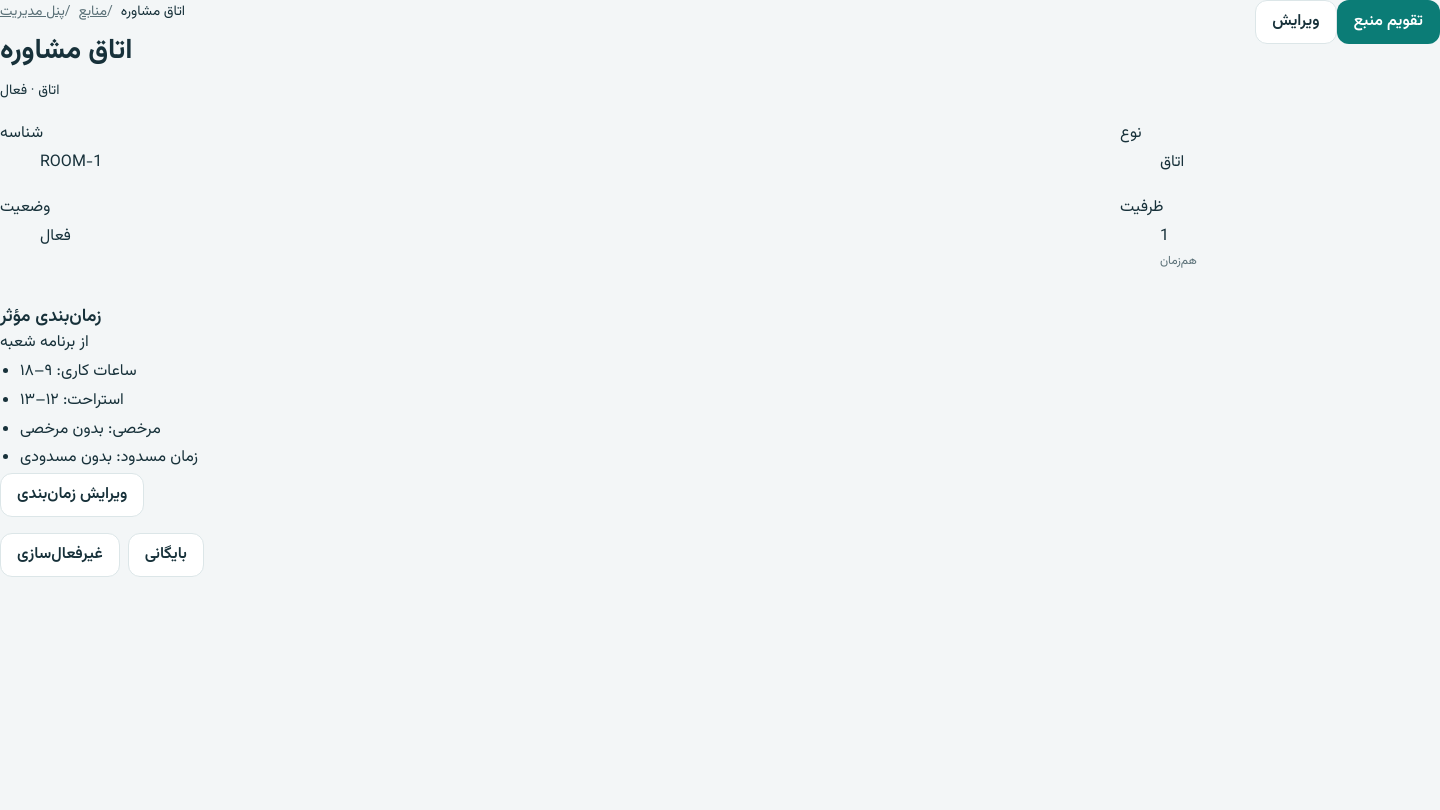
AdminResourceDetailScreen › requires impact preview before deactivation
Click the button "غیرفعال‌سازی": (60, 555) [0,533,120,577]
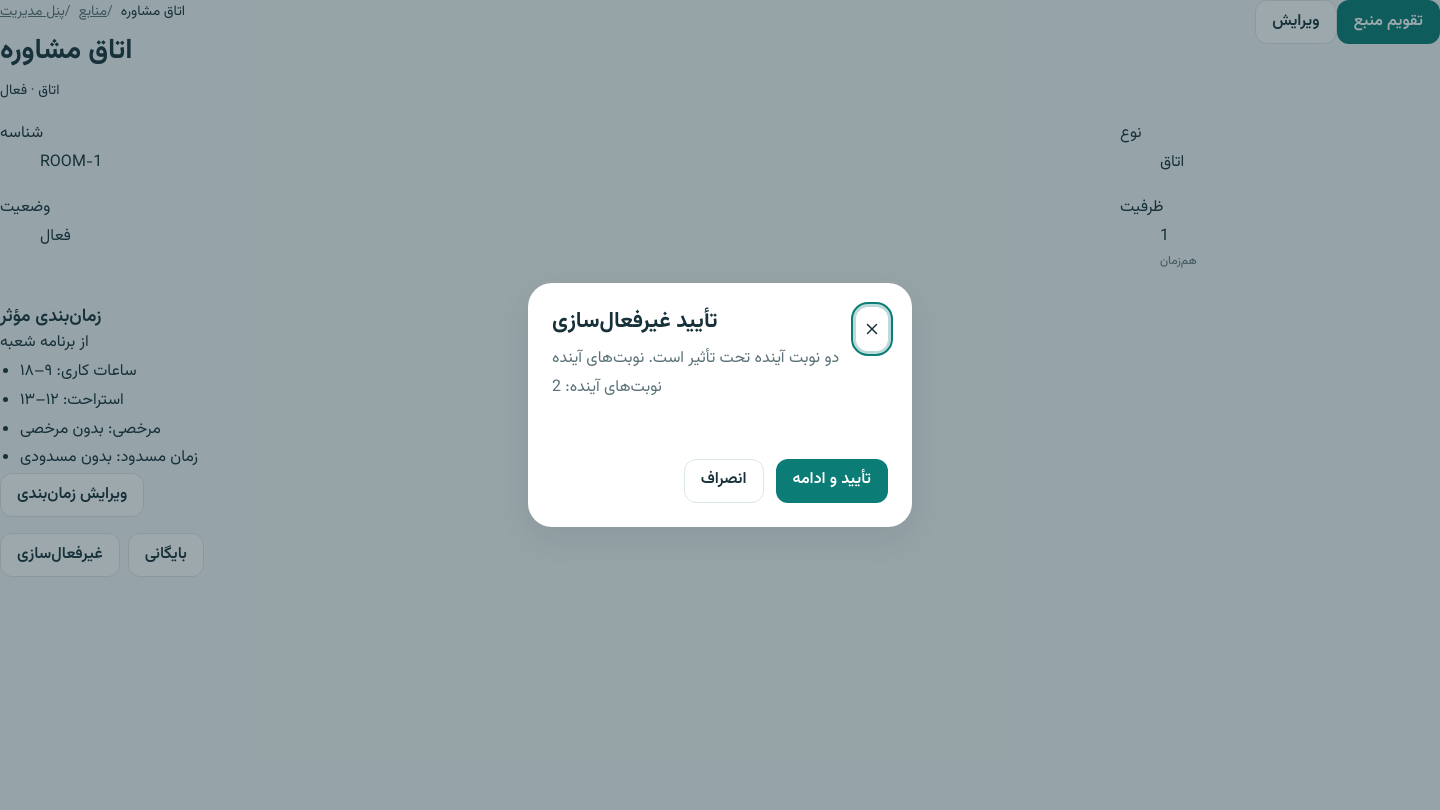
Expected: the text "دو نوبت آینده" is shown, [552,346,839,400]
Expected: the button "تأیید و ادامه" is shown, [776,459,888,503]
